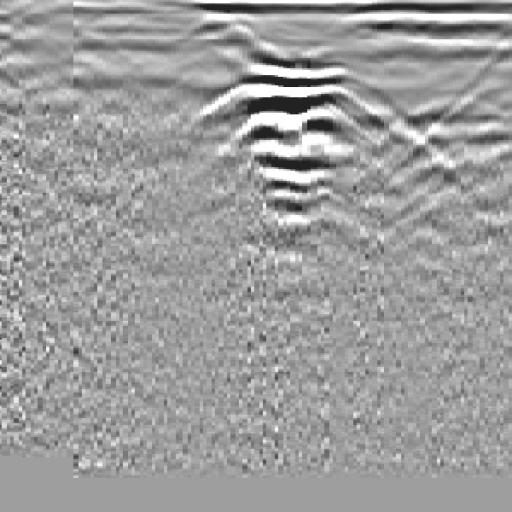metalic: (199, 49, 391, 243)
